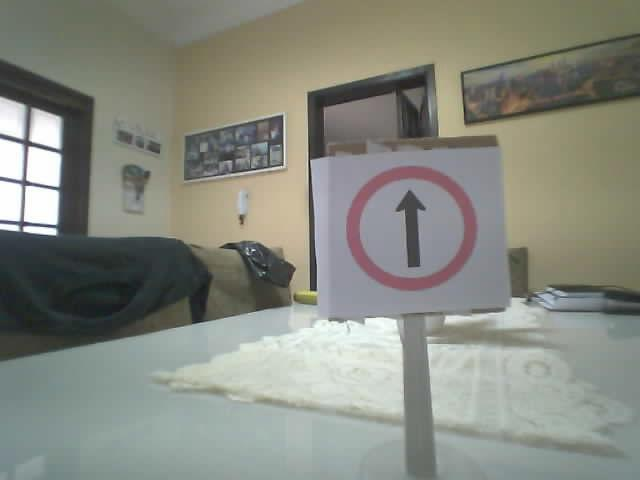R-26_frente: (345, 165, 475, 291)
